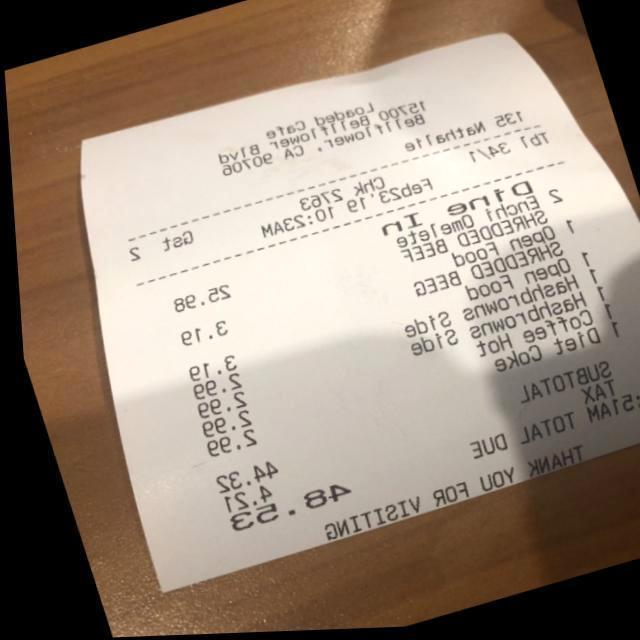Paper: (8, 0, 640, 598)
